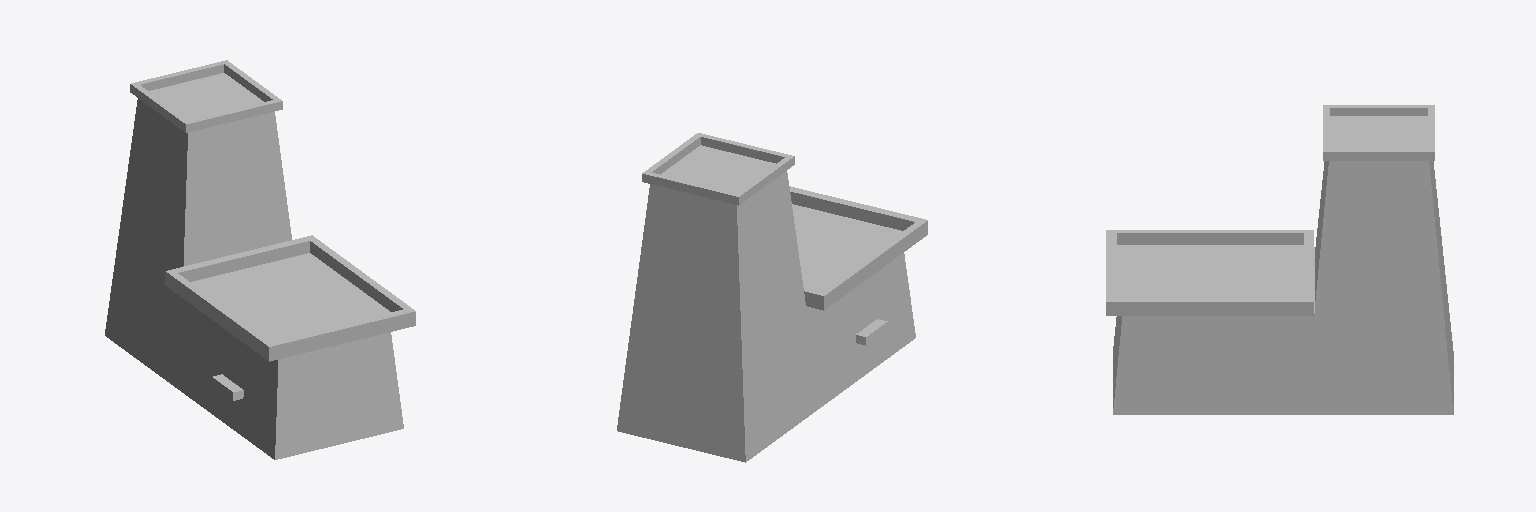
The model's file is casa3.obj.
3 views of the same model, side by side, from view 1: azimuth 30°, elevation 25°; view 2: azimuth 150°, elevation 25°; view 3: azimuth 270°, elevation 25° (orthographic).
Visible parts, largest first — view 1: cube; view 2: cube; view 3: cube.
Boxes of the visible parts, x1=… form: cube: x1=105, y1=60, x2=415, y2=459; cube: x1=617, y1=133, x2=927, y2=462; cube: x1=1106, y1=105, x2=1453, y2=414.
Bounding box in the file's own units: 15.87 × 26.28 × 32.46.